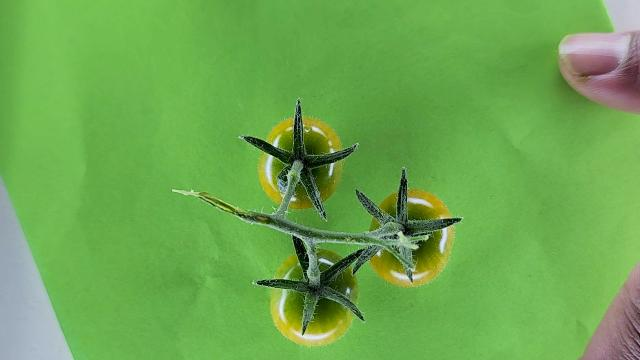Fully Grown: (269, 248, 360, 346), (366, 188, 455, 287), (258, 115, 345, 207)
